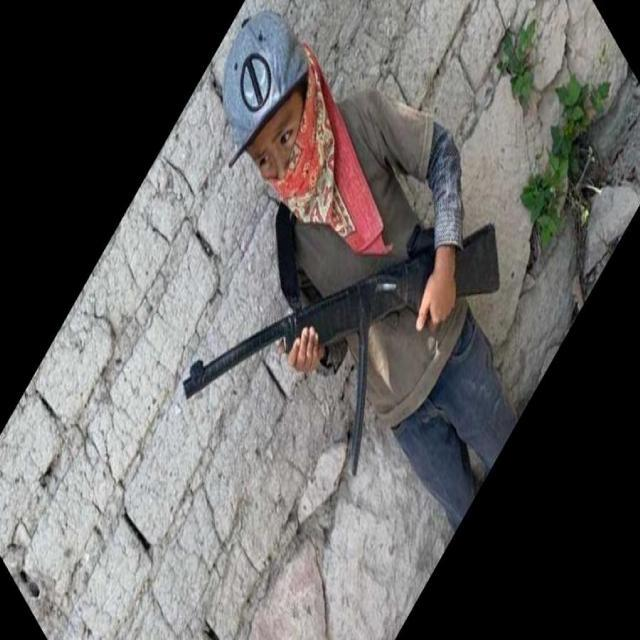weapon: (182, 220, 501, 480)
